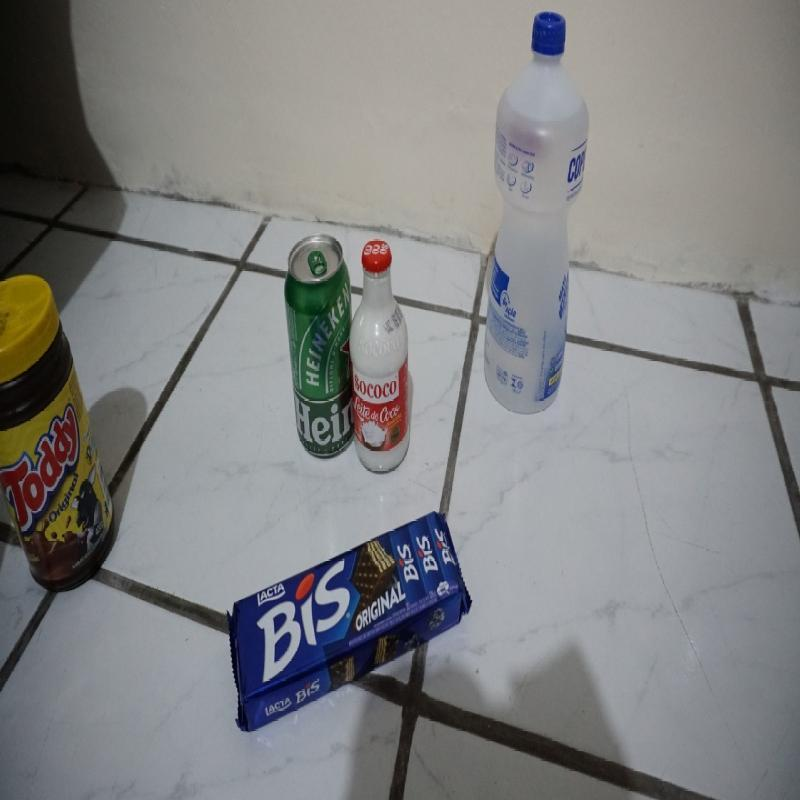Alcohol Bottle: (483, 11, 589, 416)
Beer can: (283, 234, 356, 460)
Chocolate Powder: (1, 273, 117, 598)
Coconut Milk: (349, 237, 412, 474)
